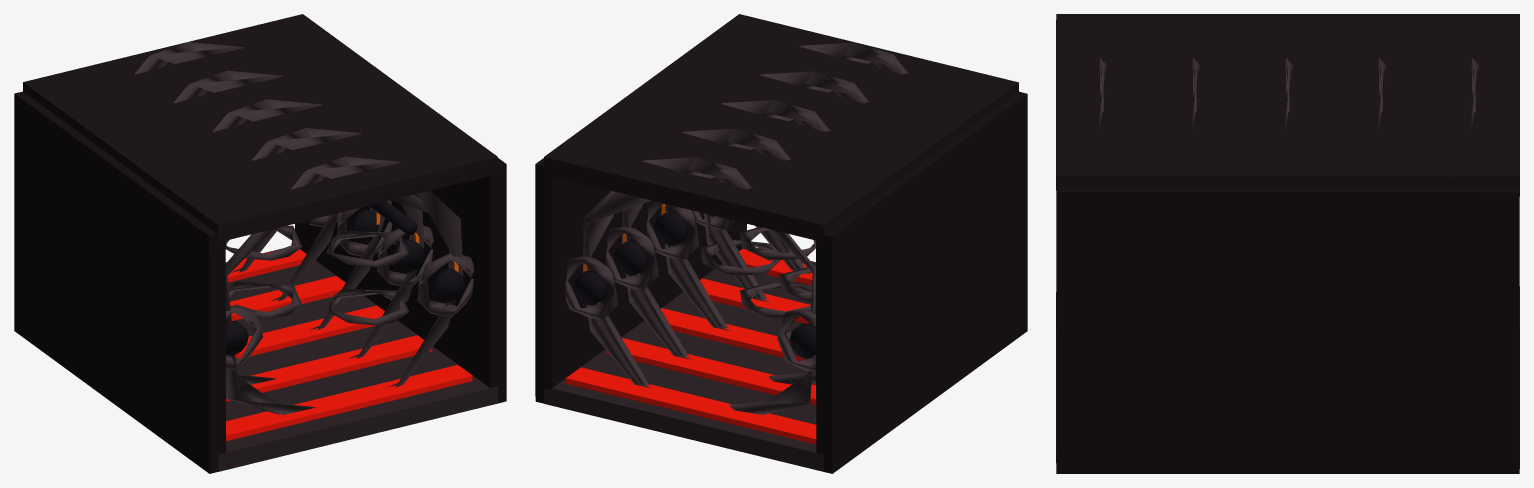
File: molten_furnace_lod.obj
3 views of the same model, side by side, from view 1: azimuth 30°, elevation 25°; view 2: azimuth 150°, elevation 25°; view 3: azimuth 270°, elevation 25° (orthographic). The views are drawn at different scales.
Visible parts, largest first — view 1: MoltenFurnace_Ceiling, MoltenFurnace_Wall_L, MoltenFurnace_Floor, MoltenFurnace_Wall_R, MoltenFurnace_Arch_4, Furnace_LavaChannel_4, Furnace_LavaChannel_3, MoltenFurnace_Arch_3, MoltenFurnace_Arch_1, MoltenFurnace_Arch_2, Furnace_LavaChannel_2, Furnace_LavaChannel_1 (+15 smaller); view 2: MoltenFurnace_Ceiling, MoltenFurnace_Wall_L, MoltenFurnace_Floor, MoltenFurnace_Wall_R, MoltenFurnace_Arch_0, Furnace_LavaChannel_0, MoltenFurnace_Arch_1, Furnace_LavaChannel_1, MoltenFurnace_Arch_2, MoltenFurnace_Arch_3, Furnace_LavaChannel_2, MoltenFurnace_Arch_4 (+14 smaller); view 3: MoltenFurnace_Wall_R, MoltenFurnace_Ceiling.
Part boxes in pixels (x1,y1,x2,y2): MoltenFurnace_Ceiling: [23, 14, 497, 242]; MoltenFurnace_Wall_L: [14, 91, 225, 473]; MoltenFurnace_Floor: [218, 248, 497, 471]; MoltenFurnace_Wall_R: [295, 158, 506, 405]; MoltenFurnace_Arch_4: [225, 156, 463, 414]; Furnace_LavaChannel_4: [226, 365, 472, 441]; Furnace_LavaChannel_3: [226, 335, 432, 401]; MoltenFurnace_Arch_3: [237, 128, 424, 384]; MoltenFurnace_Arch_1: [173, 70, 338, 301]; MoltenFurnace_Arch_2: [212, 99, 384, 330]; Furnace_LavaChannel_2: [235, 305, 384, 358]; Furnace_LavaChannel_1: [230, 276, 345, 320]; MoltenFurnace_Ceiling: [544, 14, 1018, 242]; MoltenFurnace_Wall_L: [816, 91, 1027, 473]; MoltenFurnace_Floor: [544, 247, 823, 471]; MoltenFurnace_Wall_R: [535, 158, 746, 403]; MoltenFurnace_Arch_0: [582, 157, 815, 414]; Furnace_LavaChannel_0: [566, 367, 816, 444]; MoltenFurnace_Arch_1: [622, 128, 815, 384]; Furnace_LavaChannel_1: [606, 338, 816, 404]; MoltenFurnace_Arch_2: [661, 100, 829, 331]; MoltenFurnace_Arch_3: [703, 71, 869, 302]; Furnace_LavaChannel_2: [647, 308, 804, 361]; MoltenFurnace_Arch_4: [755, 42, 908, 273]; MoltenFurnace_Wall_R: [1056, 187, 1519, 473]; MoltenFurnace_Ceiling: [1056, 14, 1519, 196].
Bounding box in the file's own units: 102 × 86.66 × 116.
